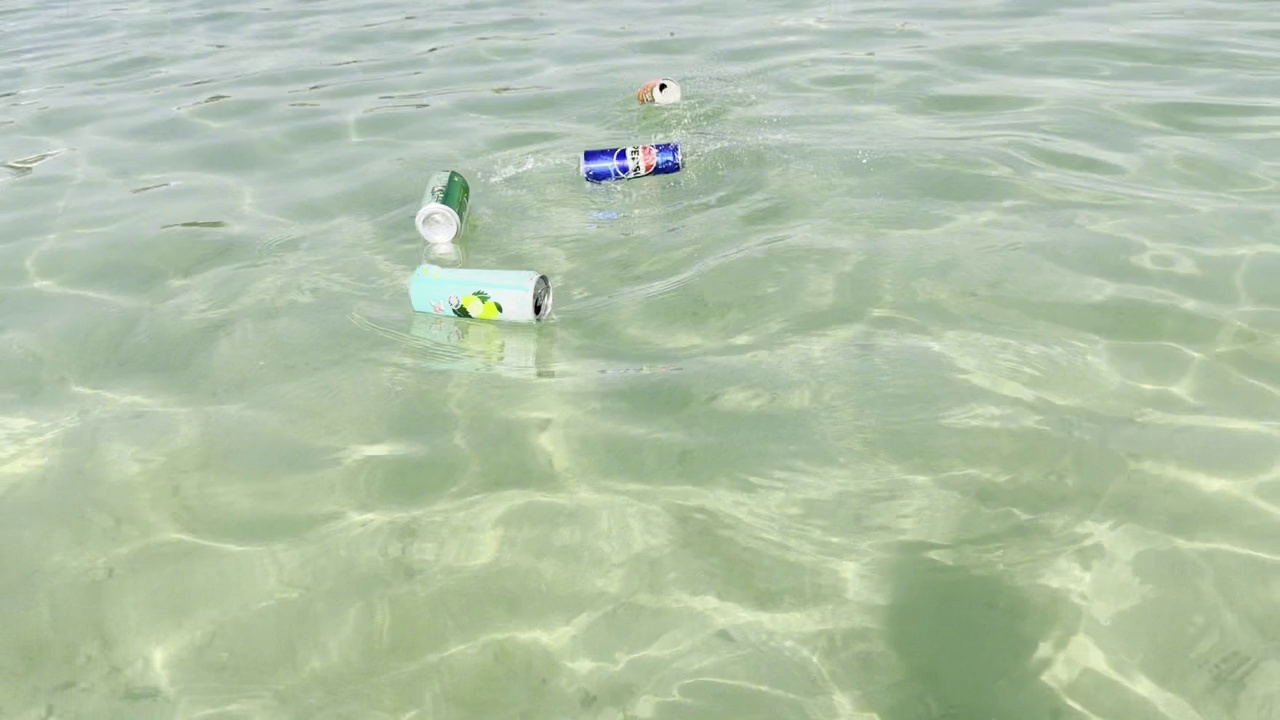debris: (404, 250, 564, 332), (408, 161, 478, 249), (569, 142, 695, 190), (628, 72, 690, 116)
